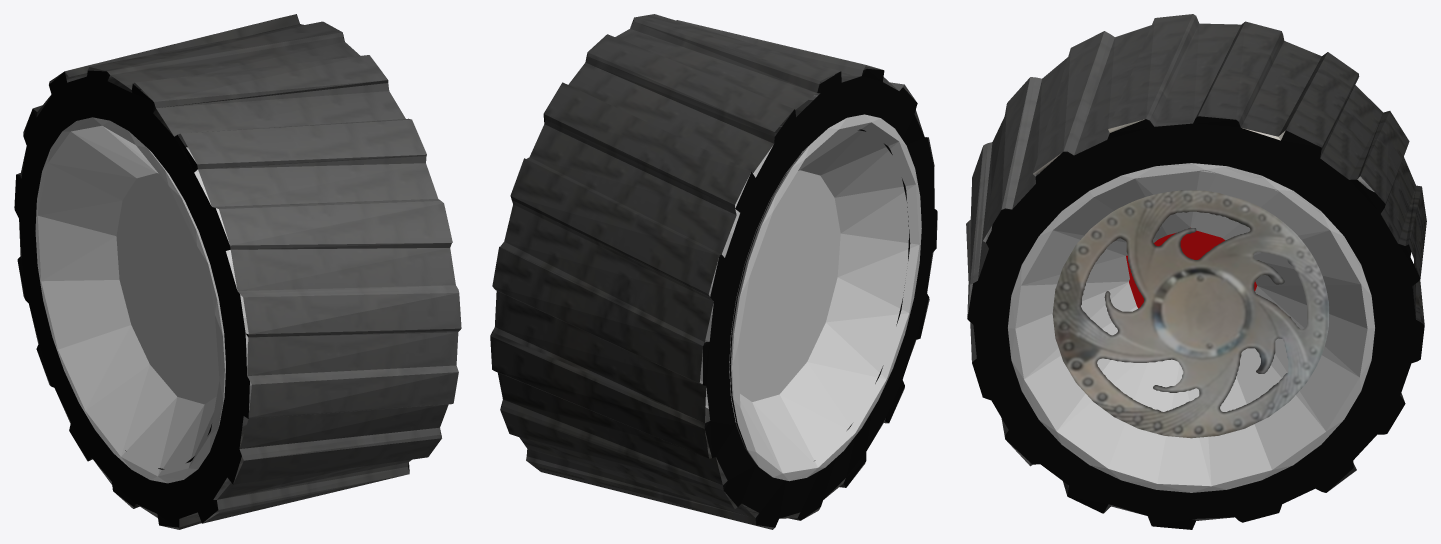
The model's file is reifen.obj.
3 renders of one model, left to right at view 1: azimuth 30°, elevation 25°; view 2: azimuth 150°, elevation 25°; view 3: azimuth 270°, elevation 25°, orthographic. The views are drawn at different scales.
Visible parts, largest first — view 1: Cylinder.003_Cylinder.006; view 2: Cylinder.003_Cylinder.006; view 3: Cylinder.003_Cylinder.006.
Part boxes in pixels (x1,y1,x2,y2): Cylinder.003_Cylinder.006: (14,14,461,529); Cylinder.003_Cylinder.006: (490,14,937,529); Cylinder.003_Cylinder.006: (966,14,1426,529).
Bounding box in the file's own units: 0.8672 × 1.54 × 1.54.
